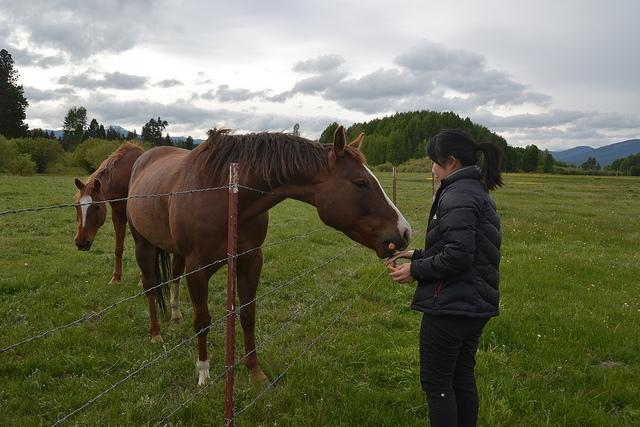carrot: (388, 266, 398, 272), (388, 243, 396, 250)
